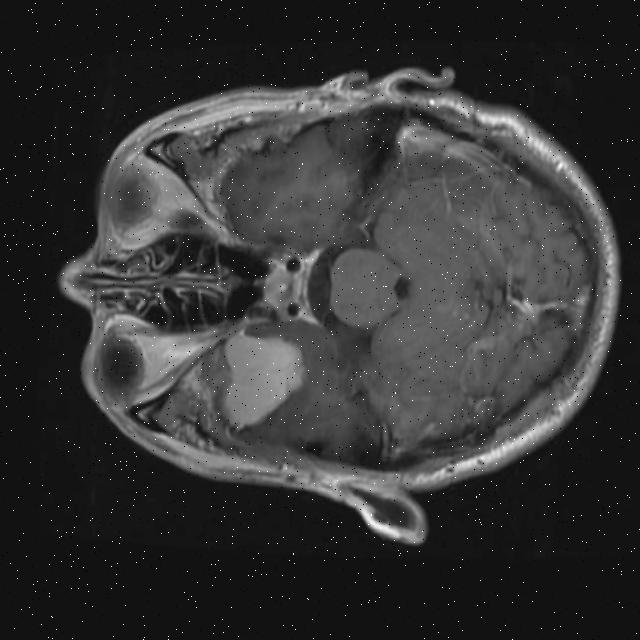Meningioma: (216, 323, 314, 437)
Pituitary: (257, 261, 300, 312)
